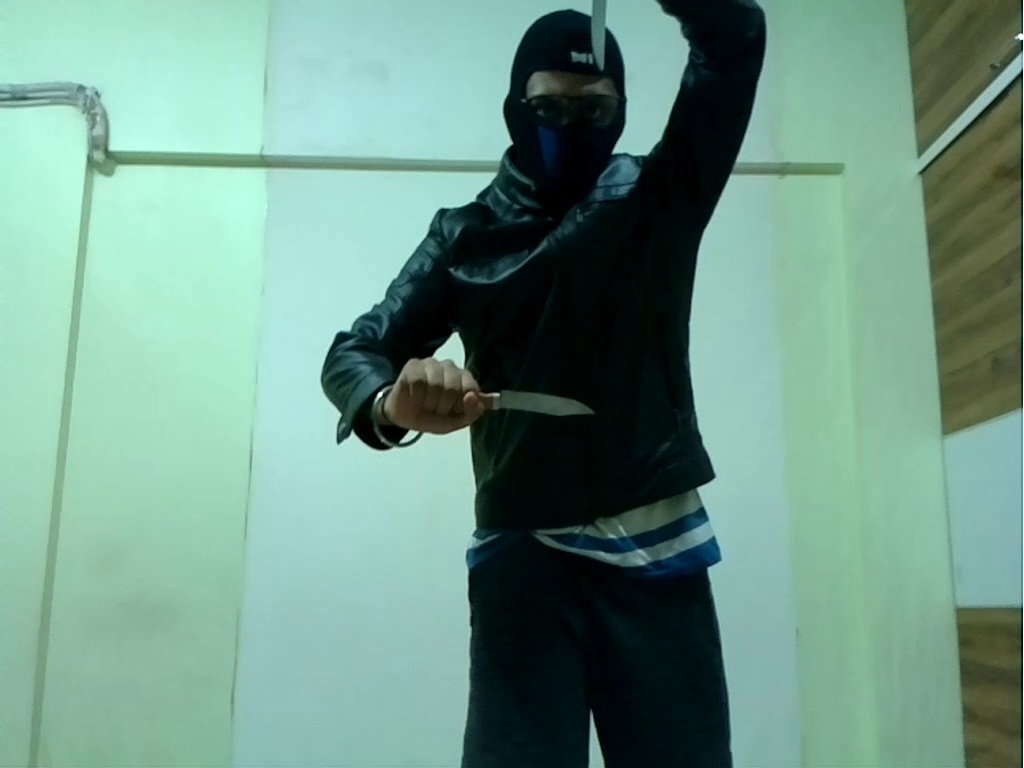knife: (474, 382, 598, 422), (588, 1, 620, 74)
